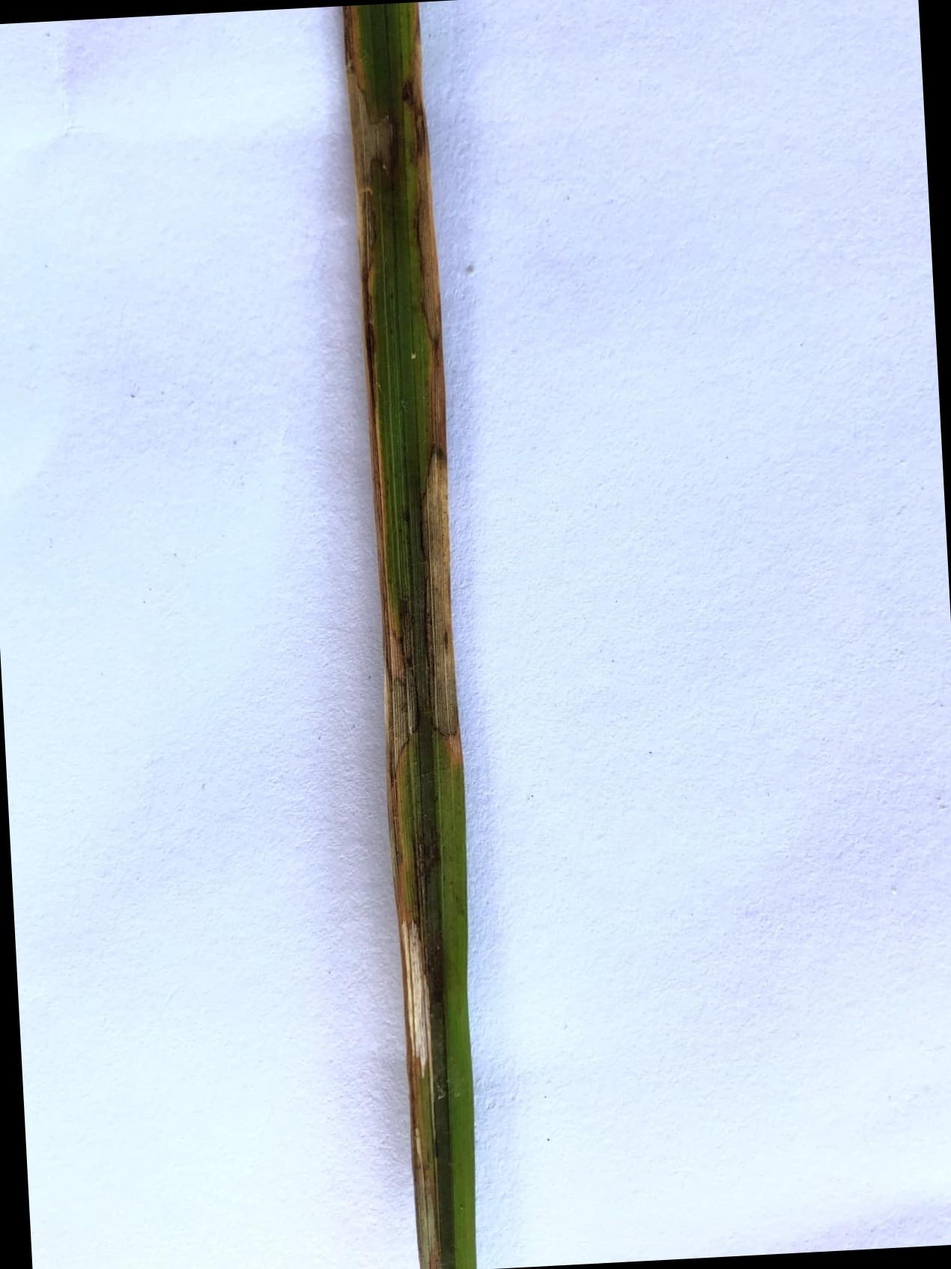Leaf Blight: (400, 2, 445, 449), (398, 893, 446, 1269), (345, 5, 390, 309), (421, 422, 459, 753), (381, 581, 420, 785), (364, 293, 388, 599), (388, 748, 416, 923)
